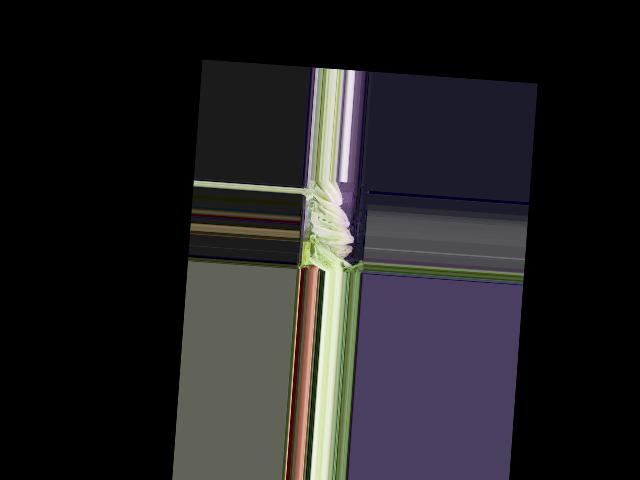lettuce: (314, 179, 345, 208)
